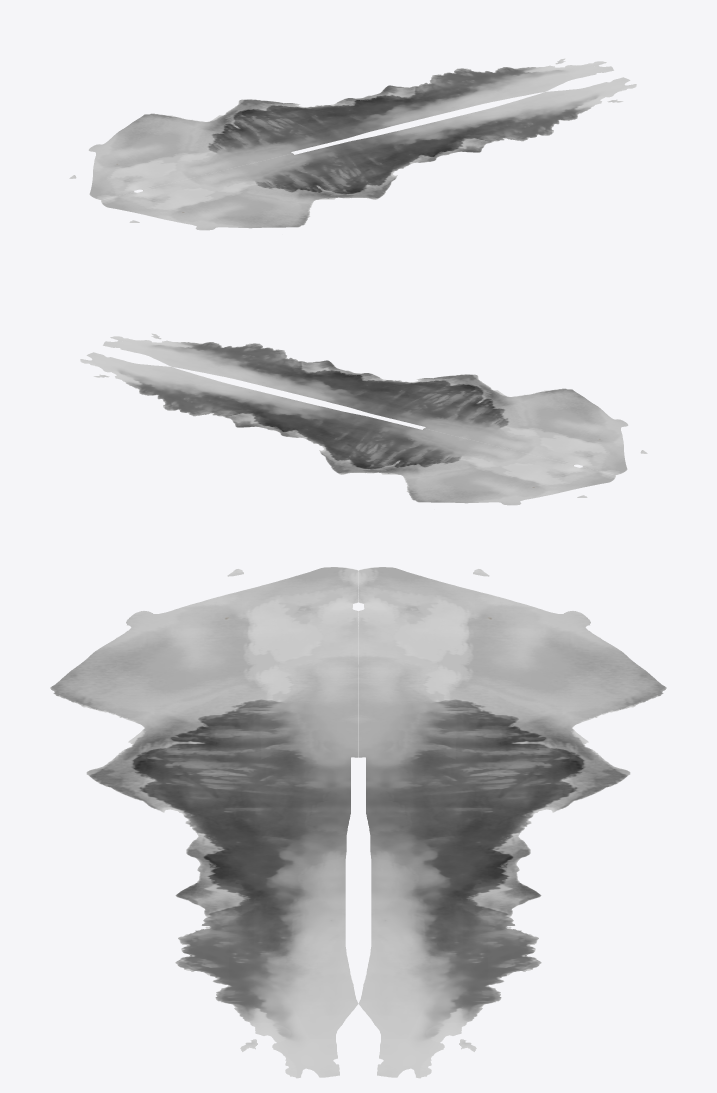
The model's file is PPX_MOUNT1.fbx.
The picture shows the model from 3 angles, top to bottom: view 1: azimuth 30°, elevation 25°; view 2: azimuth 150°, elevation 25°; view 3: azimuth 270°, elevation 25°; orthographic projection. The views are drawn at different scales.
Parts seen in each view (by area): view 1: mountain5.png, mountain5.png_2; view 2: mountain5.png_2, mountain5.png; view 3: mountain5.png, mountain5.png_2.
Part boxes in pixels (bbox=[...]): mountain5.png: bbox=[101, 77, 636, 230]; mountain5.png_2: bbox=[69, 58, 613, 200]; mountain5.png_2: bbox=[80, 352, 615, 505]; mountain5.png: bbox=[103, 333, 647, 475]; mountain5.png: bbox=[50, 567, 358, 1078]; mountain5.png_2: bbox=[358, 567, 666, 1078].
Bounding box in the file's own units: 889 × 472 × 0.
1 material, 1 textured.
